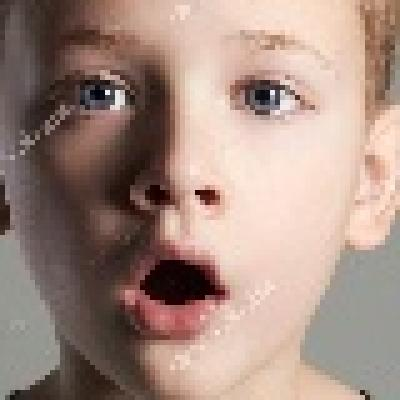surprise: (15, 4, 348, 387)
